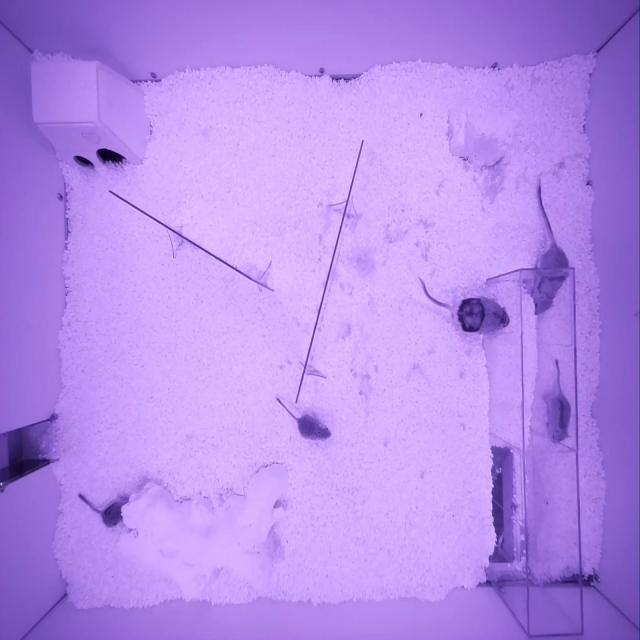adult_back: (452, 297, 511, 334)
adult_front: (531, 245, 570, 315)
pup_fluffy: (298, 414, 332, 441)
pup_spotted: (102, 494, 130, 529)
pup_v_stripe: (544, 394, 572, 445)
